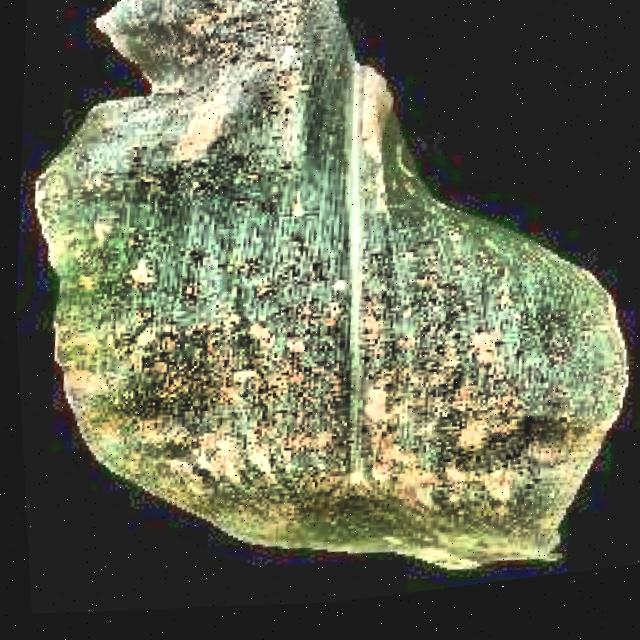common_rust: (5, 0, 581, 601)
